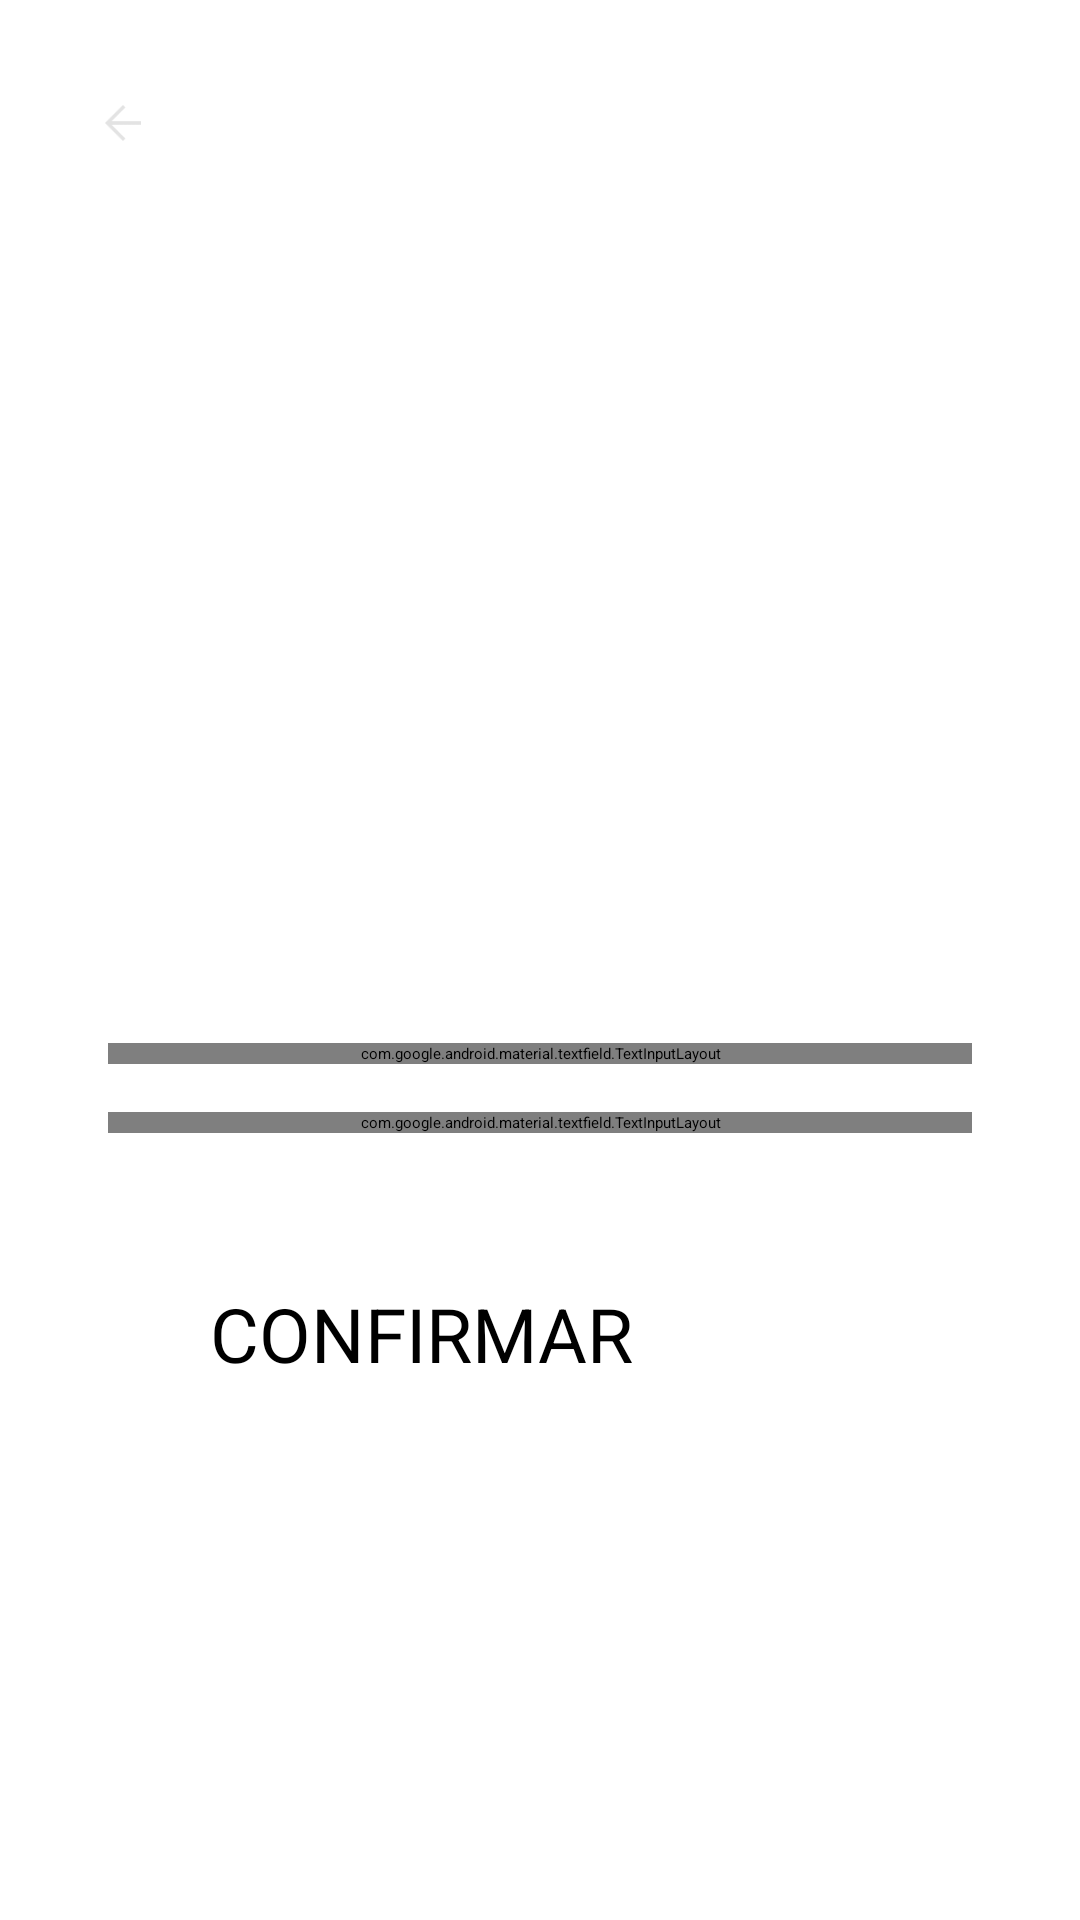

Where icons sit on this 1080 x 1920 app screen, as (x1, y1, x2, y2):
Voltar: (106, 106, 141, 140)
